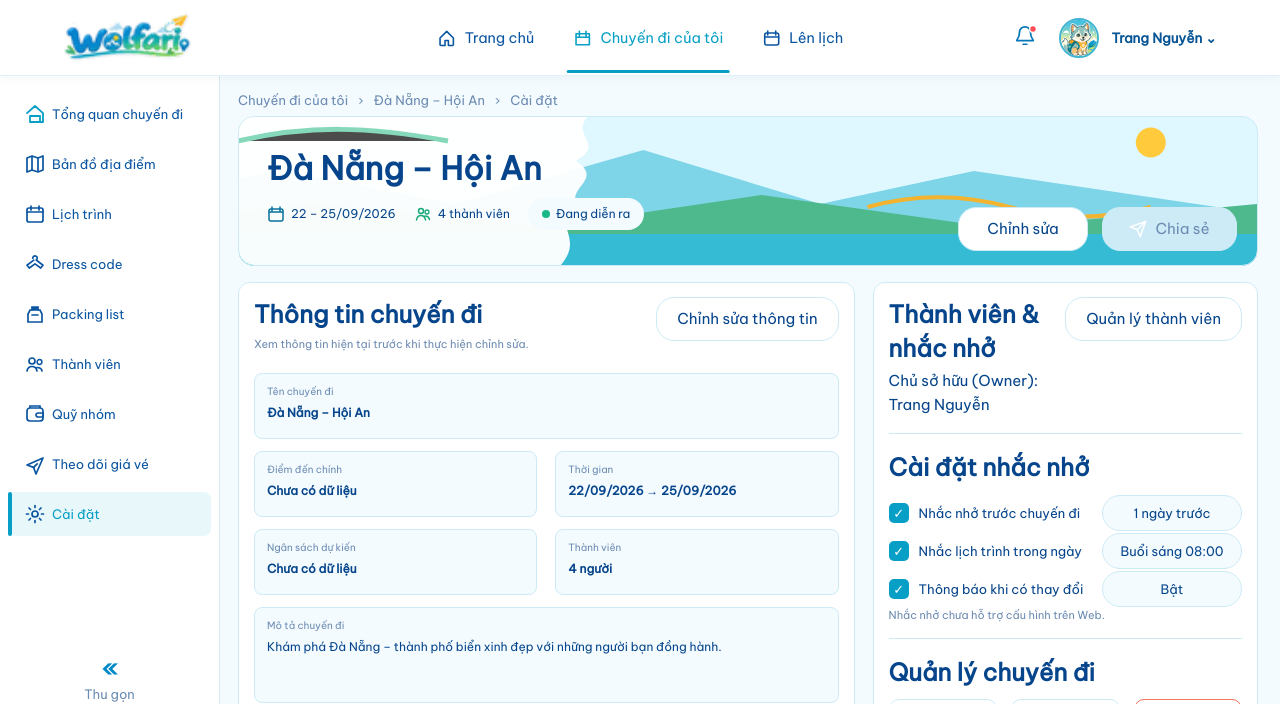
Test case: Trip Settings › keeps all draft fields on conflict and requires refreshed revisions with a new key
Step 1. Click the button "Chỉnh sửa thông tin" → (747, 319), box [656,297,839,341]
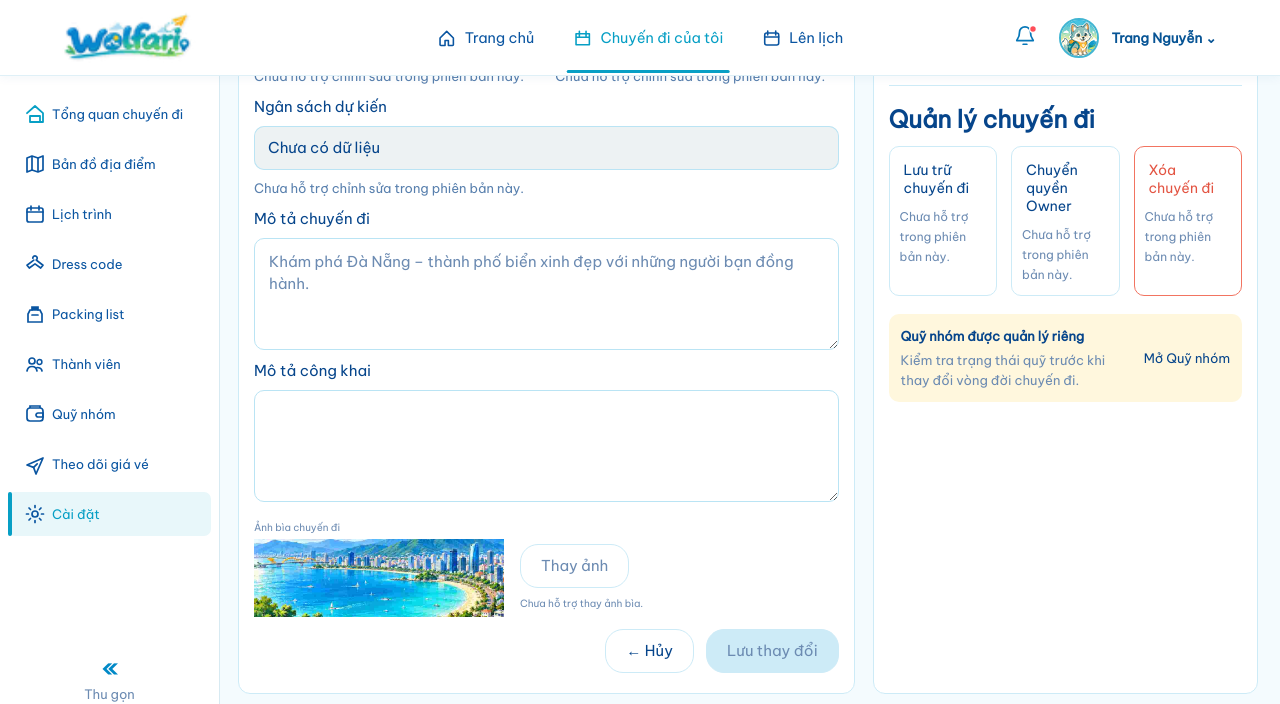
Step 2. Type "Bản nháp công khai sau xung đột" into the text box labelled "Mô tả công khai" → (546, 446), box [254,390,839,502]
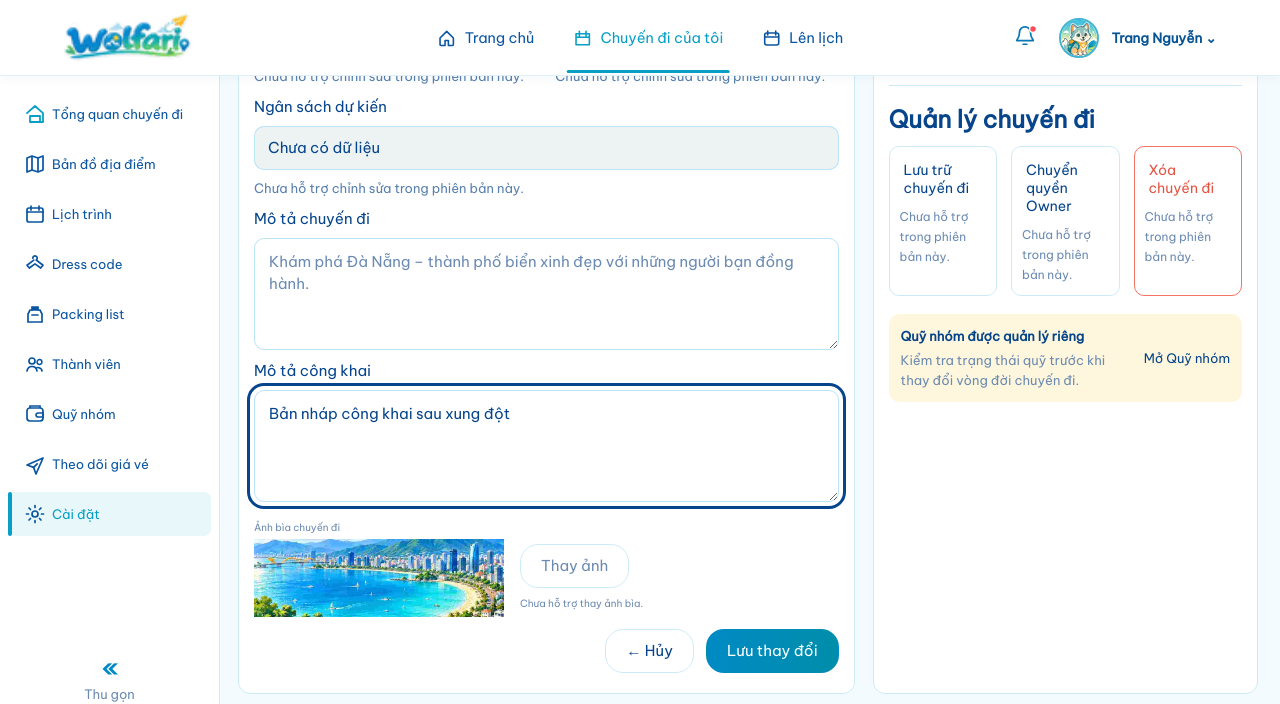
Step 3. Click the button "Lưu thay đổi" → (772, 651), box [706,629,839,673]
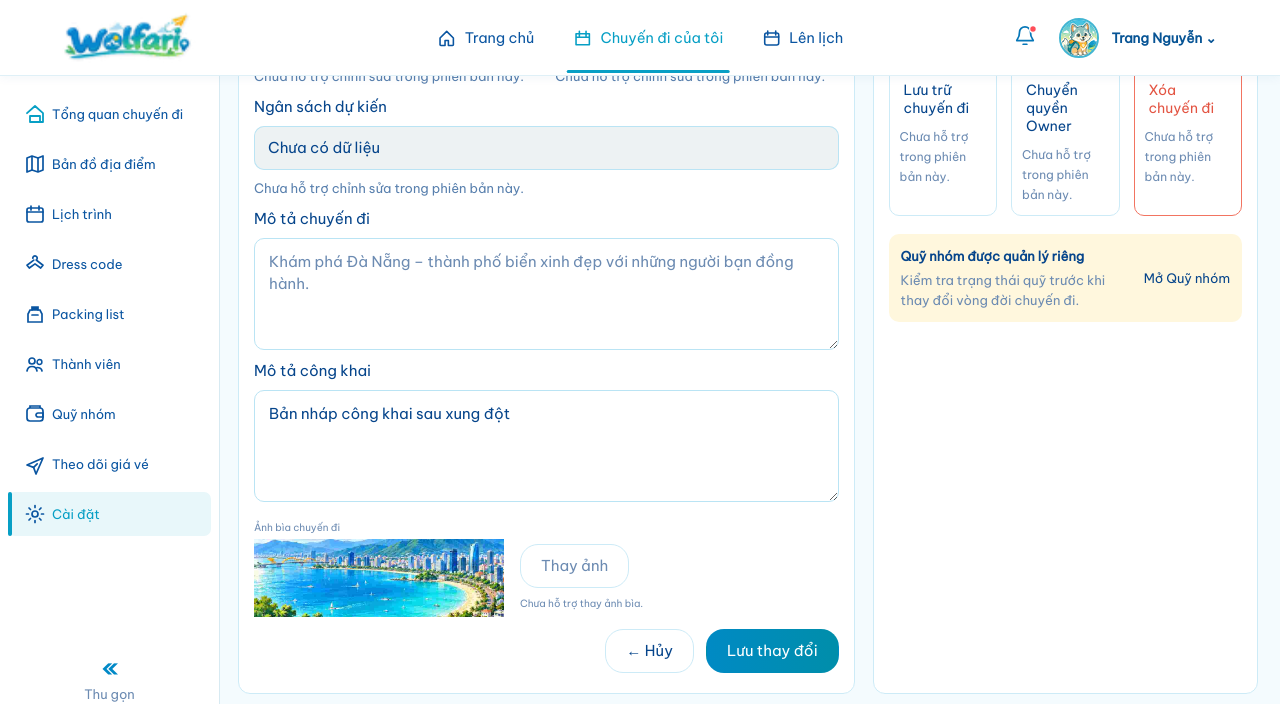
Step 4. Click the button "Lưu thay đổi" → (772, 651), box [706,629,839,673]
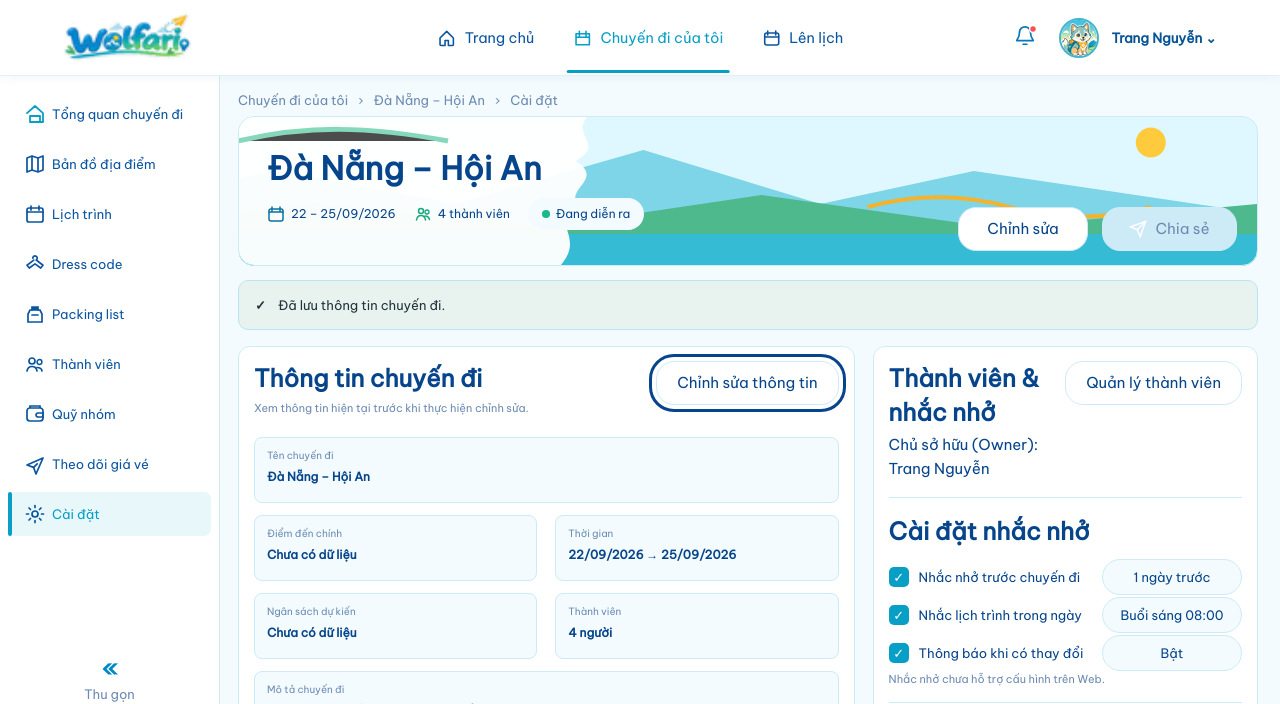
Expected: the text "Đã lưu thông tin chuyến đi." is shown, [278,297,445,313]
